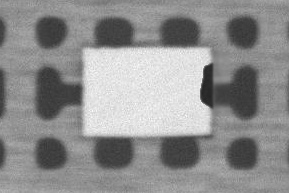DIE_BROKEN: (198, 60, 214, 109)
